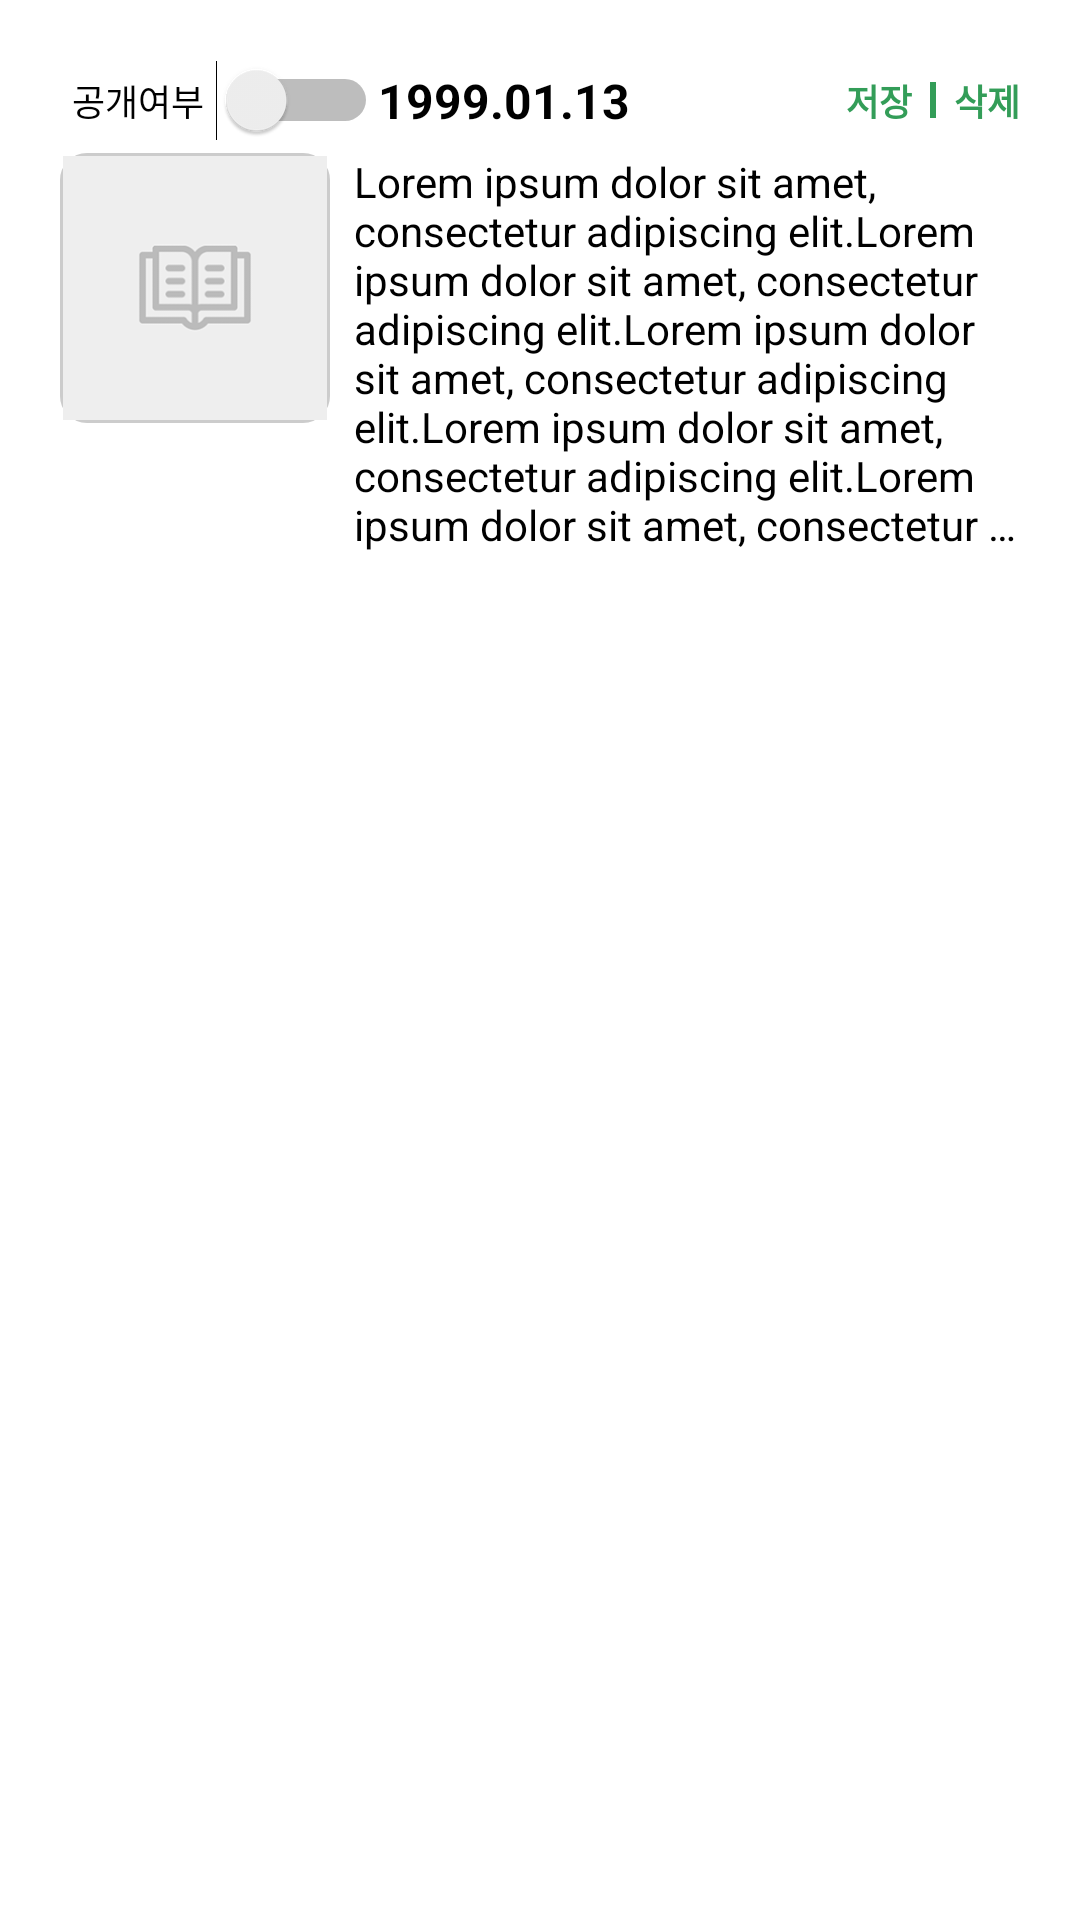

Icon bounding boxes for this 1080 × 1920 phone screenshot, format bbox=(x1, y1, x2, y2):
story: bbox=(60, 153, 330, 423)
